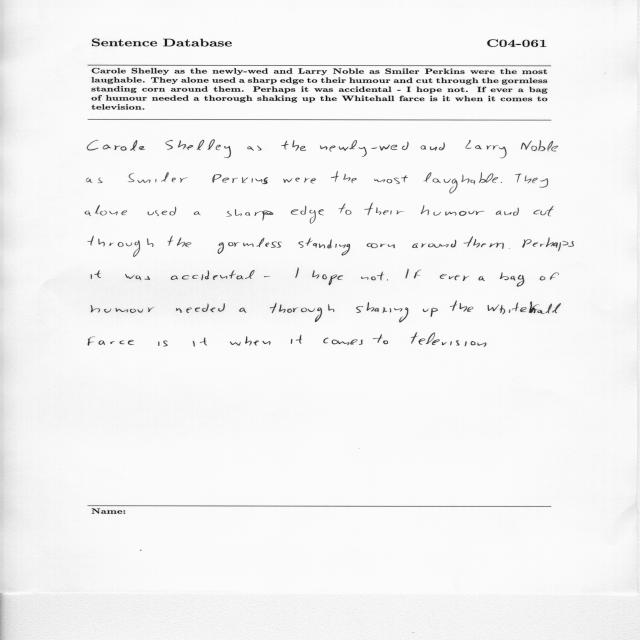word: (424, 172, 499, 194), (320, 140, 409, 157), (88, 236, 154, 257), (270, 303, 334, 322), (165, 140, 231, 158), (357, 302, 409, 323), (218, 238, 282, 254), (488, 302, 561, 315), (299, 238, 350, 256), (411, 333, 476, 346), (171, 270, 254, 280), (466, 140, 507, 158), (421, 205, 485, 216), (128, 172, 188, 183), (87, 140, 145, 151), (291, 206, 324, 224), (532, 238, 574, 252), (212, 174, 268, 184), (464, 236, 504, 249), (227, 209, 274, 220), (91, 305, 155, 313), (176, 303, 225, 313), (364, 203, 404, 215), (312, 271, 343, 286), (515, 174, 548, 188), (85, 205, 127, 216), (88, 337, 134, 346), (230, 336, 271, 346), (521, 140, 558, 151), (412, 240, 456, 248), (500, 273, 525, 287), (374, 175, 408, 184), (331, 172, 357, 183), (323, 338, 363, 345), (450, 300, 473, 312), (281, 140, 306, 151), (168, 236, 192, 247), (148, 207, 177, 216), (420, 142, 445, 151), (533, 206, 554, 216), (440, 274, 469, 281), (283, 178, 316, 184), (496, 208, 519, 216), (361, 272, 384, 280), (405, 269, 421, 279), (339, 203, 352, 215), (540, 273, 559, 281), (125, 274, 150, 280), (373, 334, 388, 344), (367, 243, 395, 248), (423, 308, 438, 317), (193, 338, 207, 347), (291, 335, 302, 344), (522, 239, 532, 248), (91, 270, 101, 279), (86, 178, 103, 183), (247, 146, 262, 151), (158, 341, 168, 347), (477, 342, 486, 347), (295, 267, 299, 278), (478, 276, 485, 281), (239, 308, 246, 313), (194, 211, 201, 215), (264, 276, 270, 277), (501, 182, 502, 183), (387, 280, 388, 281)
